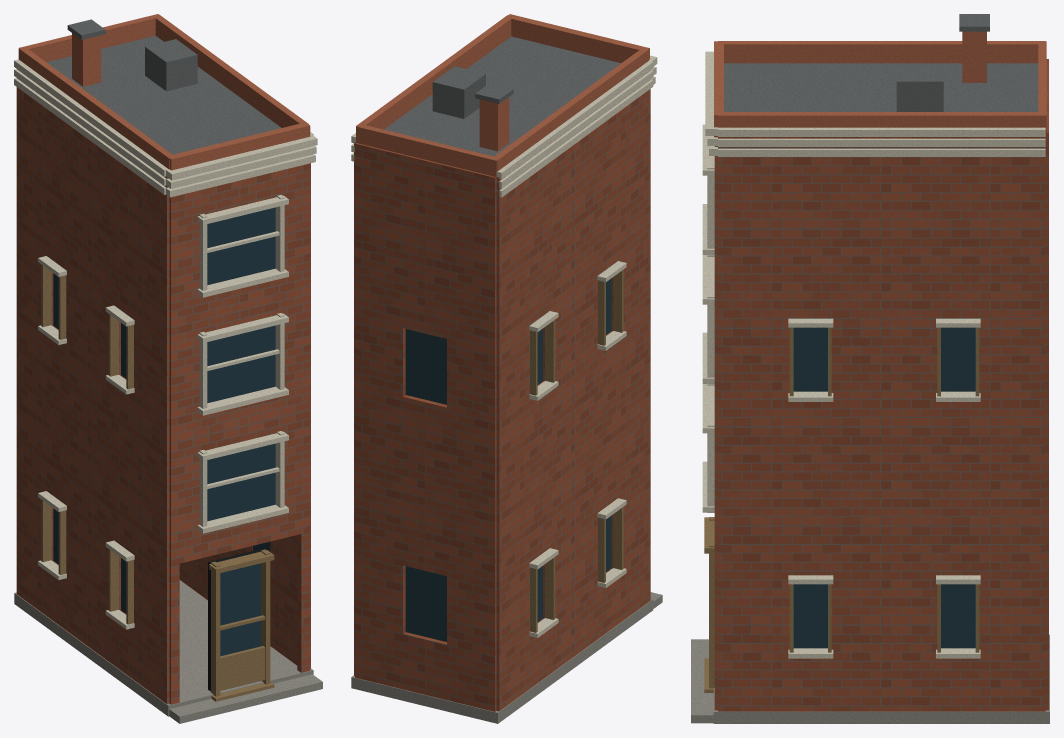
Rendered from OFFC16_lod2.glb.
3 renders of one model, left to right at view 1: azimuth 30°, elevation 25°; view 2: azimuth 150°, elevation 25°; view 3: azimuth 270°, elevation 25°, orthographic. The views are drawn at different scales.
Parts seen in each view (by area): view 1: OFFC16_LOD2; view 2: OFFC16_LOD2; view 3: OFFC16_LOD2.
Part boxes in pixels (left/top/right/bottom): OFFC16_LOD2: left=14, top=14, right=322, bottom=723; OFFC16_LOD2: left=351, top=14, right=662, bottom=723; OFFC16_LOD2: left=691, top=14, right=1049, bottom=723.
Size of the model in its own units: 3.71 by 13.05 by 6.57.
Materials: 8 (6 with a texture image).
